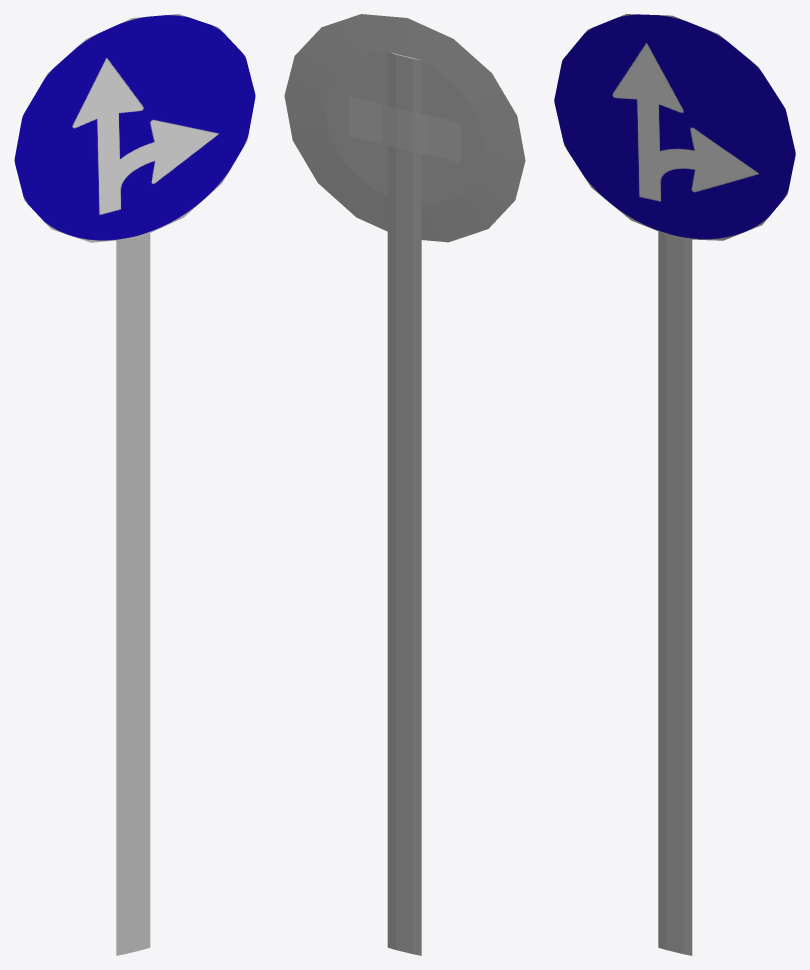
The model's file is ilerisag.dae.
The picture shows the model from 3 angles, left to right: view 1: azimuth 30°, elevation 25°; view 2: azimuth 150°, elevation 25°; view 3: azimuth 330°, elevation 25°; orthographic projection.
Visible parts, largest first — view 1: Sign_Circle.005; view 2: Sign_Circle.005; view 3: Sign_Circle.005.
Boxes of the visible parts, <box> form: Sign_Circle.005: <box>14,14,255,955</box>; Sign_Circle.005: <box>284,14,525,955</box>; Sign_Circle.005: <box>554,14,795,955</box>.
Bounding box in the file's own units: 0.6353 × 0.00621 × 2.35.
3 materials, 1 textured.
